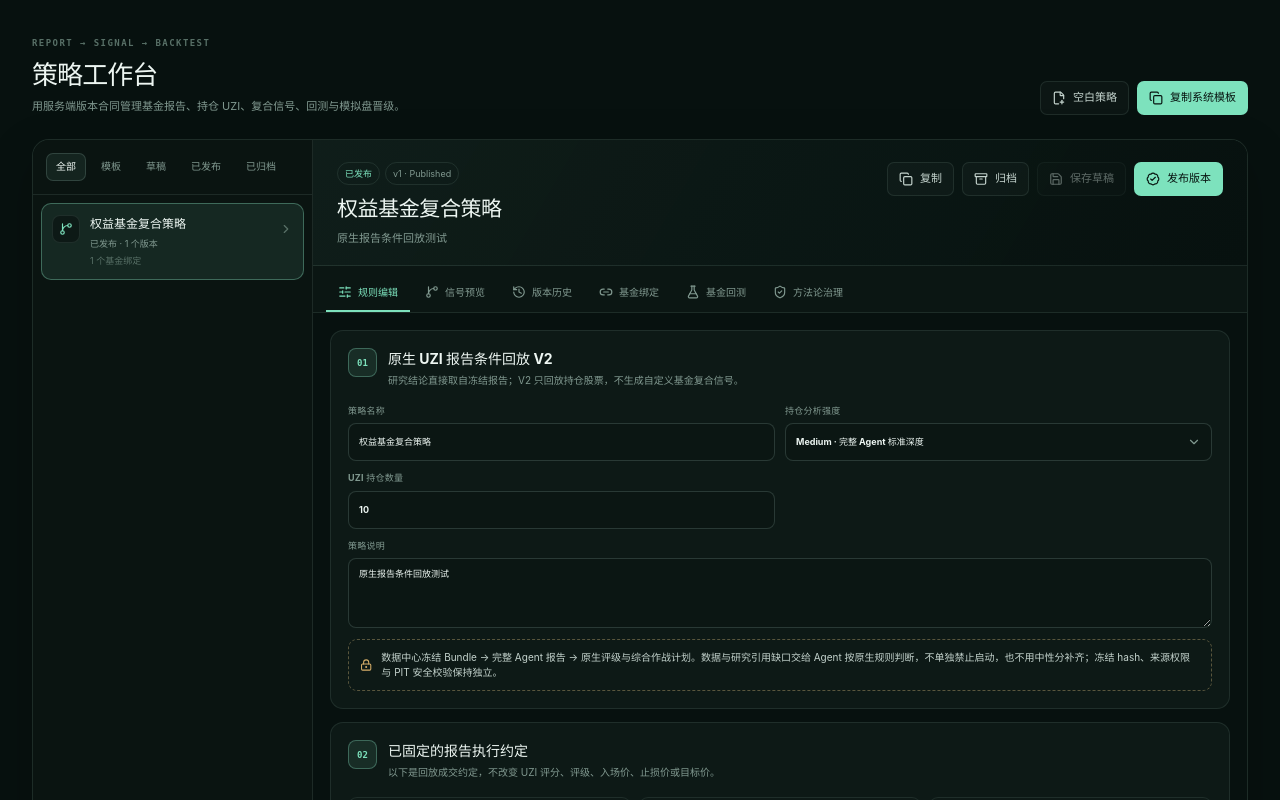
Strategies › renders and publishes V2 without accessing legacy scoring or MA fields
Check: the heading "原生 UZI 报告条件回放 V2" is shown, box [388, 350, 553, 367]
Check: the text "数据与研究引用缺口交给 Agent 按原生规则判断" shows "不单独禁止启动", box [381, 651, 1190, 678]
Click the button "发布版本".
click(1178, 178)  # box [1134, 162, 1223, 196]
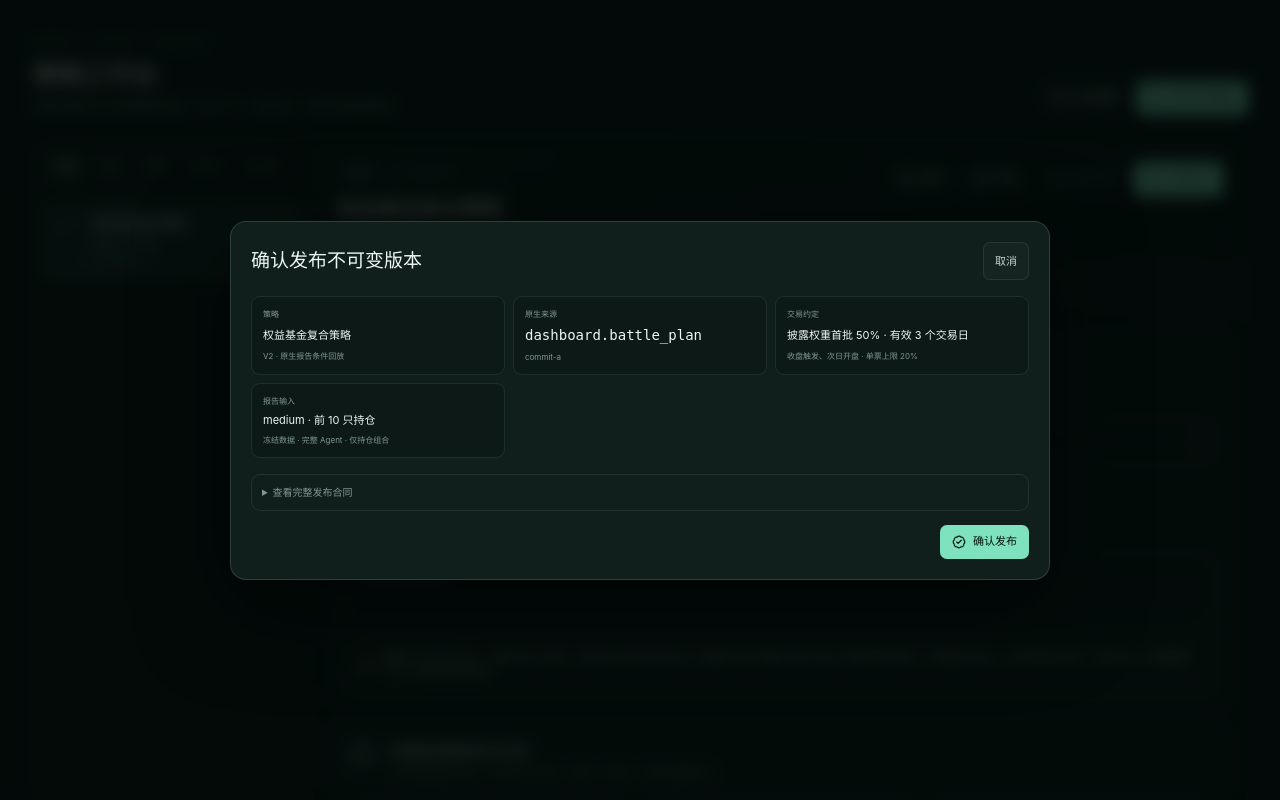
Check: the dialog "确认发布不可变版本" shows "V2 · 原生报告条件回放", box [263, 350, 344, 360]
